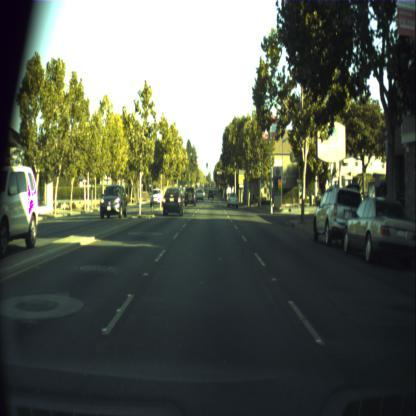Green: (206, 162, 208, 168)
RedLeft: (193, 160, 195, 166)
